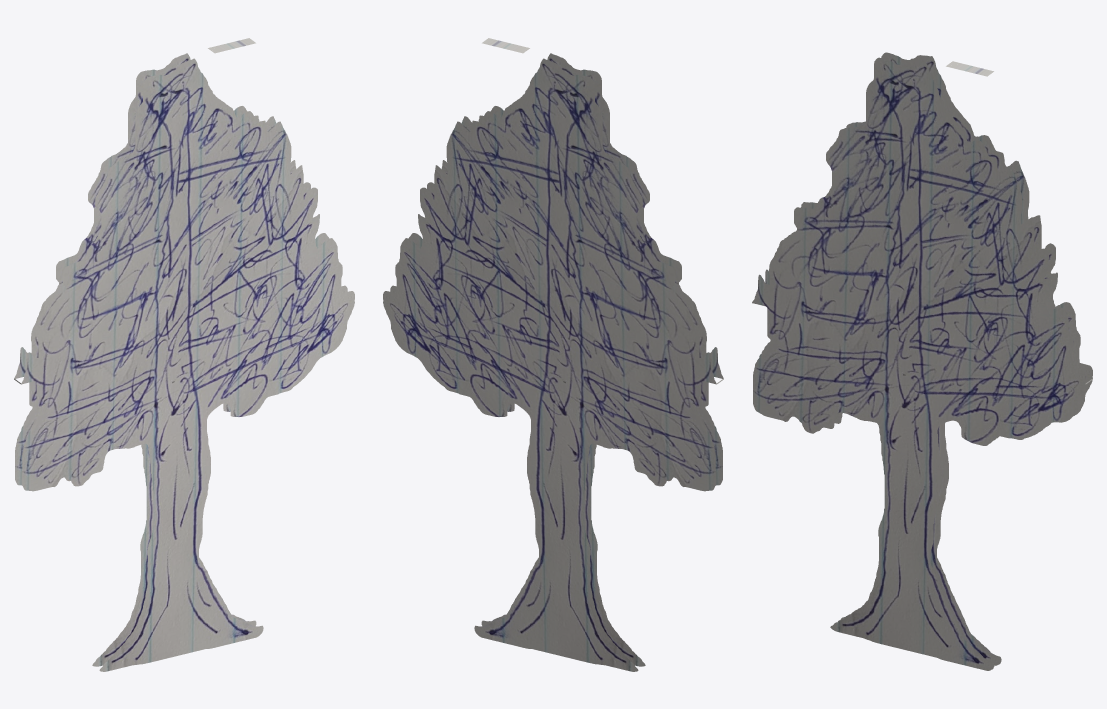
File: boom3.fbx
3 views of the same model, side by side, from view 1: azimuth 30°, elevation 25°; view 2: azimuth 150°, elevation 25°; view 3: azimuth 330°, elevation 25° (orthographic).
Parts seen in each view (by area): view 1: Plane; view 2: Plane; view 3: Plane.
Part boxes in pixels (left/top/right/bottom): Plane: left=14, top=38, right=354, bottom=671; Plane: left=383, top=38, right=723, bottom=671; Plane: left=752, top=52, right=1092, bottom=670.
Size of the model in its own units: 926 by 1576 by 34.35.
1 material, 1 textured.
